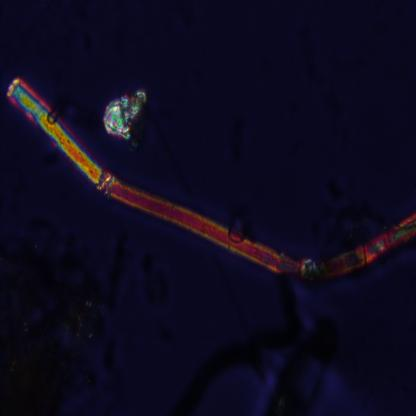Microfibre: (7, 78, 416, 288)
